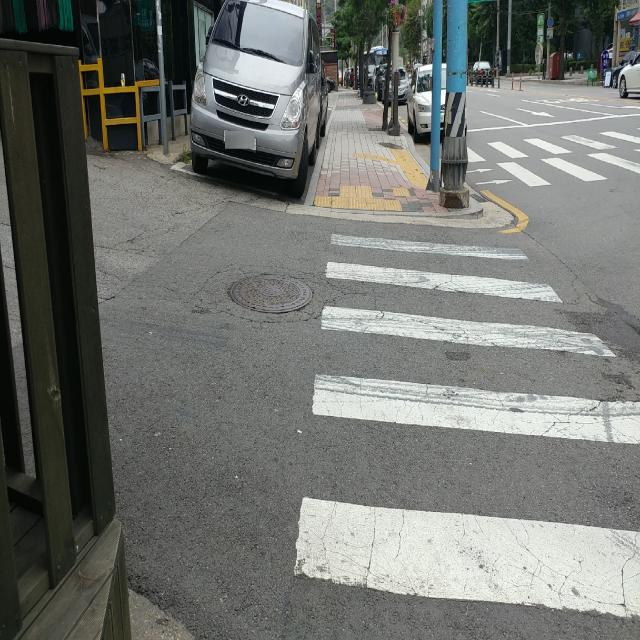횡단보도: (293, 232, 640, 618), (440, 136, 640, 194)
